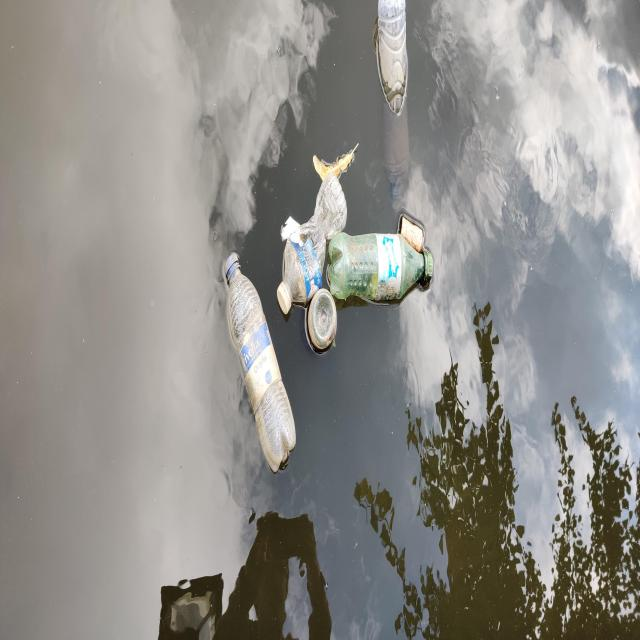litter: (194, 213, 305, 500), (280, 151, 352, 311), (328, 221, 436, 313), (378, 11, 410, 105), (309, 296, 339, 355)
